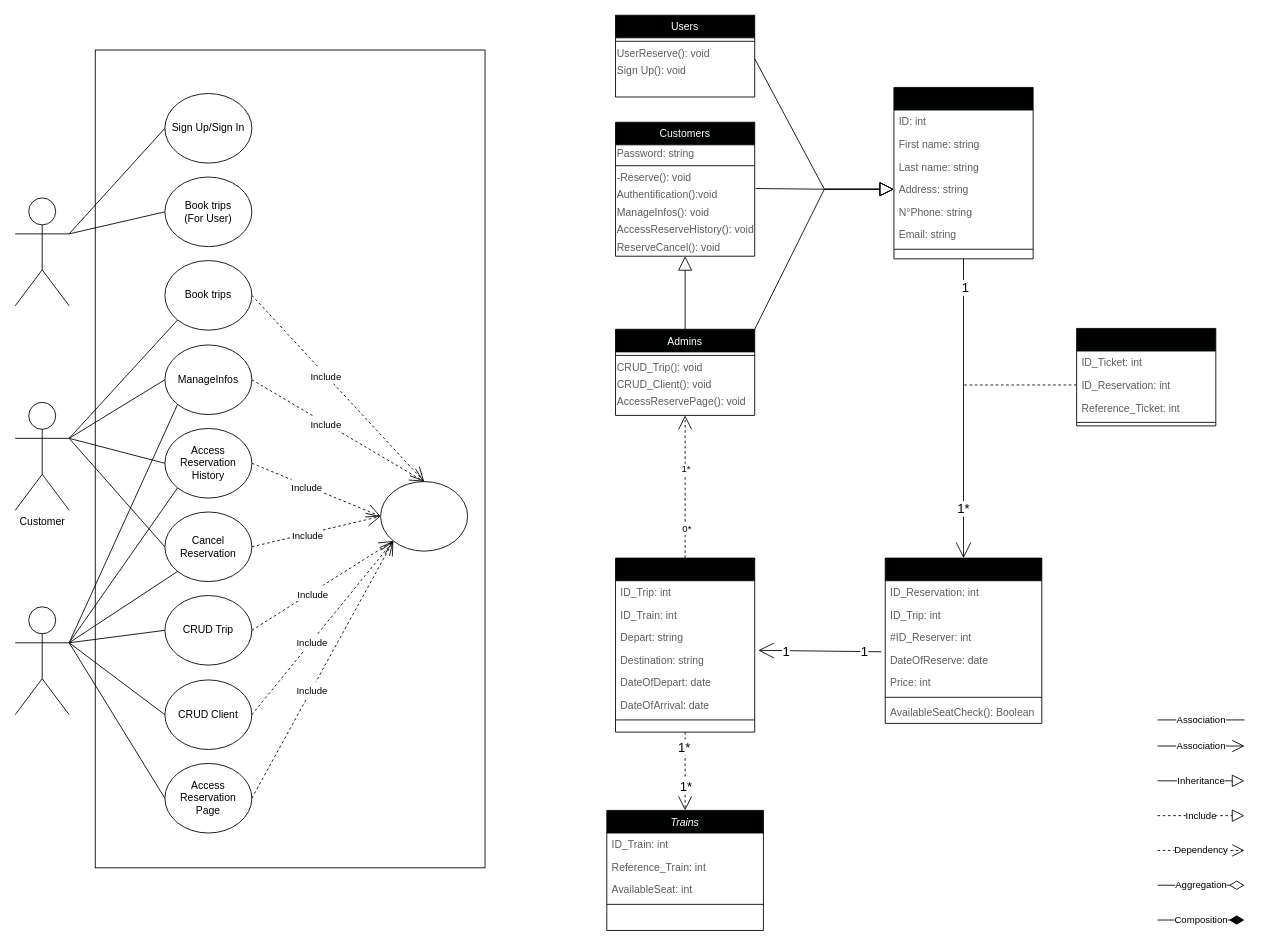
Some shapes in this 1275 by 950 pixel diagram are drawn without their labels. The shapes that lost their labels are listed below. From the top down, each one's box as (x1, y1, x2, y2) in pixels, then its label:
(893, 87, 1033, 259): Persons
(14, 197, 69, 306): User
(1076, 328, 1216, 426): Tickets
(380, 481, 468, 551): Authentication
(615, 557, 755, 732): Trips
(884, 557, 1042, 723): Reservations
(14, 606, 69, 715): Admin
